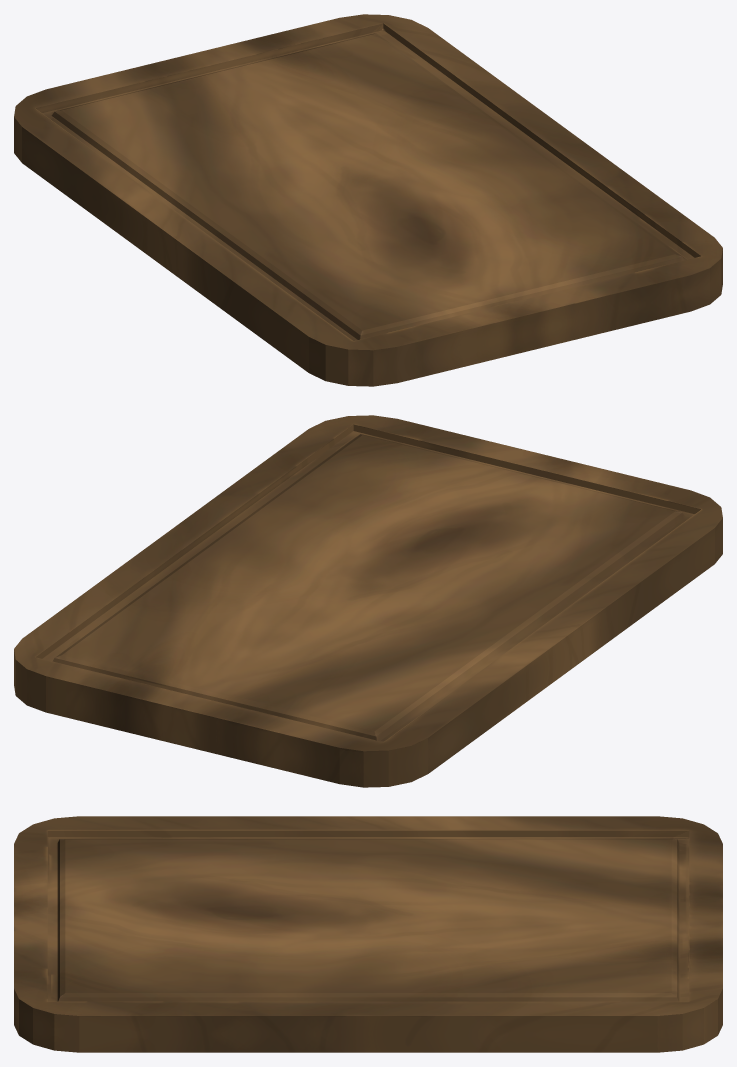
File: Cutting board.fbx
The picture shows the model from 3 angles, top to bottom: view 1: azimuth 30°, elevation 25°; view 2: azimuth 150°, elevation 25°; view 3: azimuth 270°, elevation 25°; orthographic projection.
Parts seen in each view (by area): view 1: Cutting board; view 2: Cutting board; view 3: Cutting board.
Part boxes in pixels (x1,y1,x2,y2): Cutting board: [14, 14, 722, 386]; Cutting board: [14, 415, 722, 787]; Cutting board: [14, 816, 722, 1052].
Size of the model in its own units: 48 by 4.11 by 72.
